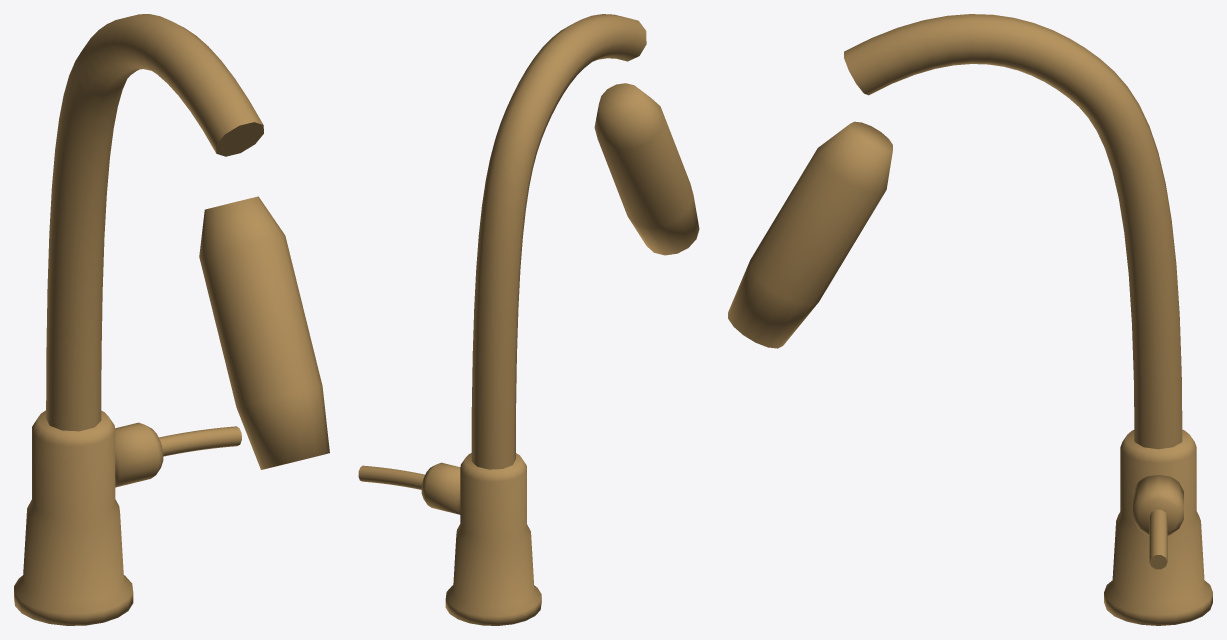
Rendered from a_faucet_pull_2.glb.
3 views of the same model, side by side, from view 1: azimuth 30°, elevation 25°; view 2: azimuth 150°, elevation 25°; view 3: azimuth 270°, elevation 25° (orthographic). The views are drawn at different scales.
Parts seen in each view (by area): view 1: o.001, o.002, o, o.003, o.004; view 2: o.001, o, o.002, o.003, o.004; view 3: o.001, o.002, o, o.003, o.004.
Boxes of the visible parts, x1,y1,x2,y2 form: o.001: (46, 14, 263, 431); o.002: (199, 196, 329, 469); o: (14, 410, 133, 625); o.003: (115, 422, 163, 487); o.004: (159, 426, 241, 456); o.001: (471, 14, 646, 469); o: (445, 453, 541, 625); o.002: (594, 83, 699, 255); o.003: (421, 462, 460, 514); o.004: (358, 465, 424, 489); o.001: (844, 14, 1182, 449); o.002: (728, 121, 892, 348); o: (1104, 429, 1212, 625); o.003: (1133, 475, 1183, 535); o.004: (1149, 509, 1167, 569).
Size of the model in its own units: 0.1127 by 0.3208 by 0.2407.
